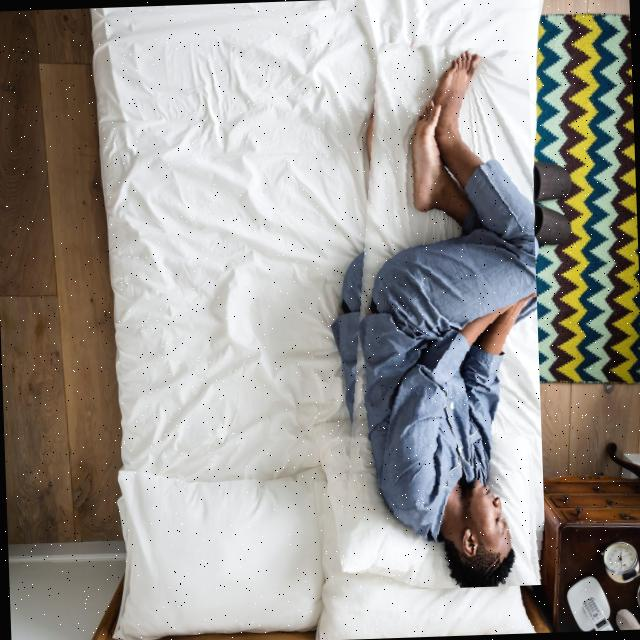people: (322, 36, 547, 592)
